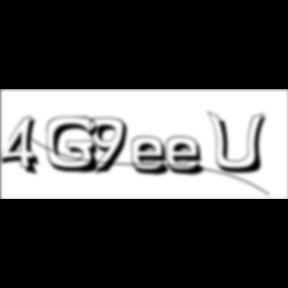4: (0, 115, 46, 179)
9: (90, 117, 134, 177)
G: (46, 116, 106, 176)
U: (208, 110, 272, 176)
e: (132, 135, 178, 178), (166, 135, 212, 178)
